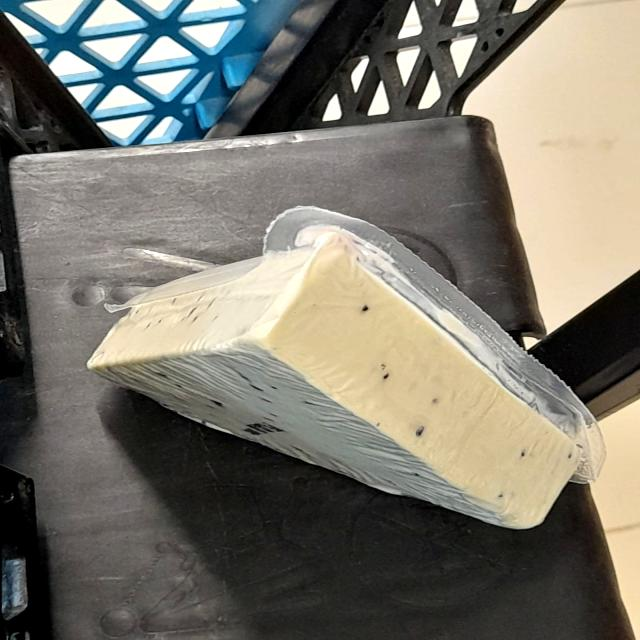cheese: (99, 233, 590, 552)
